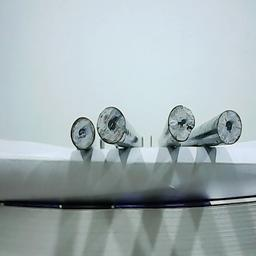pen: (167, 103, 197, 142), (97, 105, 126, 144), (215, 108, 243, 144), (71, 116, 96, 151)
